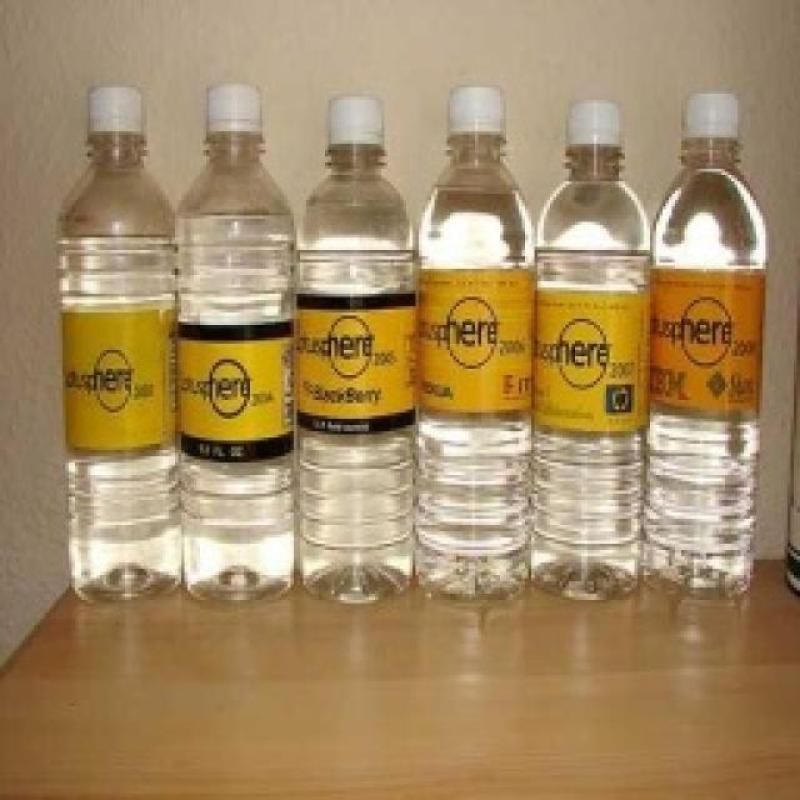botella: (411, 85, 549, 614), (55, 85, 193, 610), (175, 80, 300, 605), (295, 97, 424, 603), (539, 94, 649, 600), (656, 92, 760, 618)
